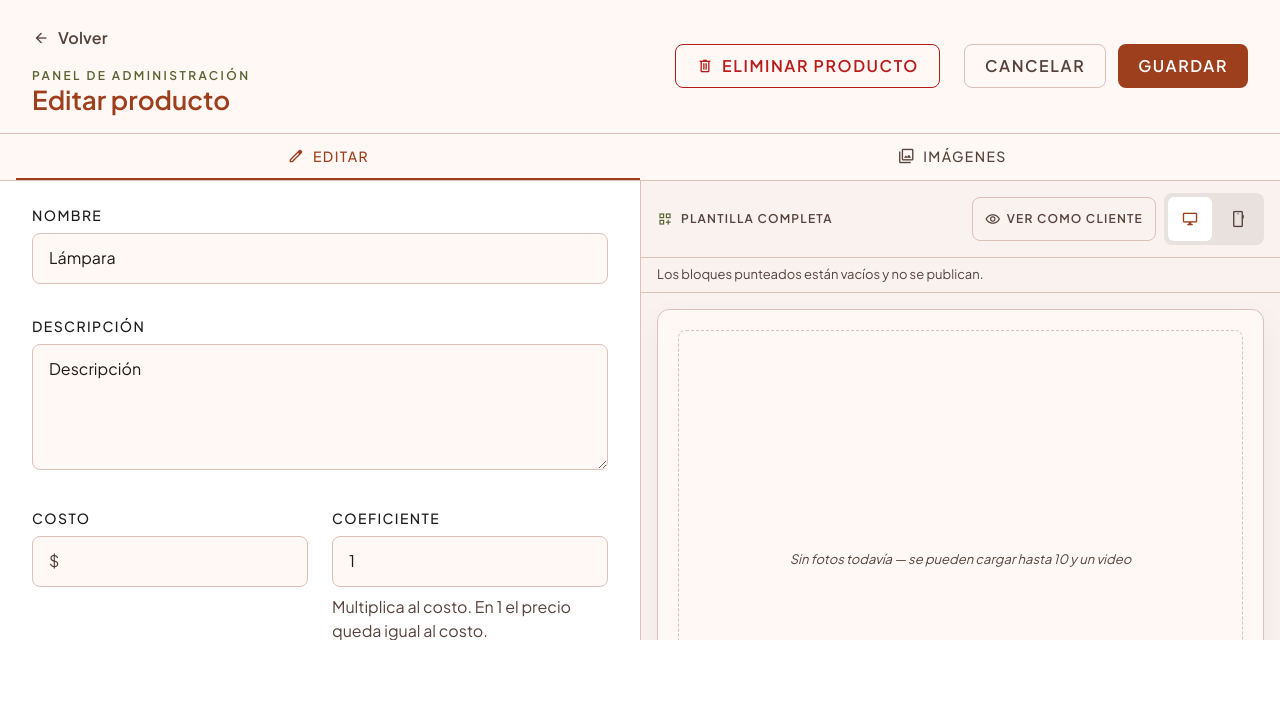
Test: AdminProductoForm — borrar el producto › un fallo deja el diálogo abierto con el motivo a la vista
The width and height of the screenshot is (1280, 720).
Click the button "Eliminar producto": (807, 66) [675,44,940,88]
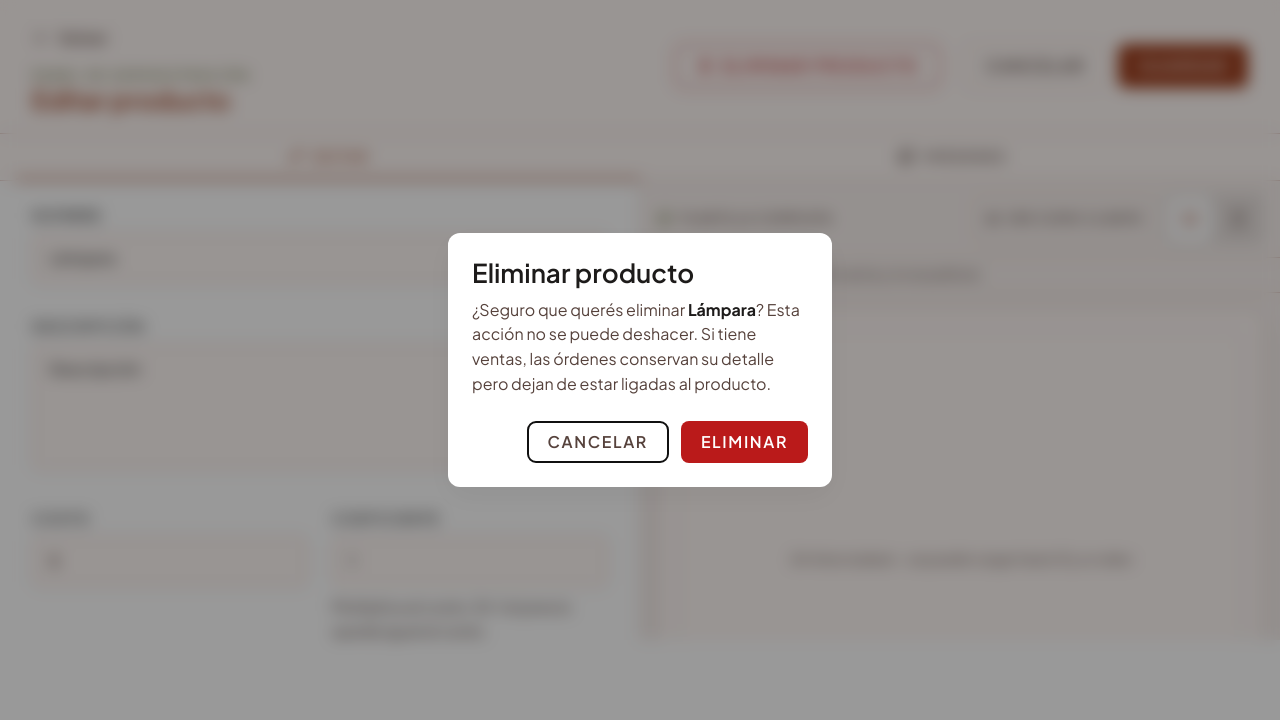
Click the button "Eliminar": (744, 442) [681,421,808,463]
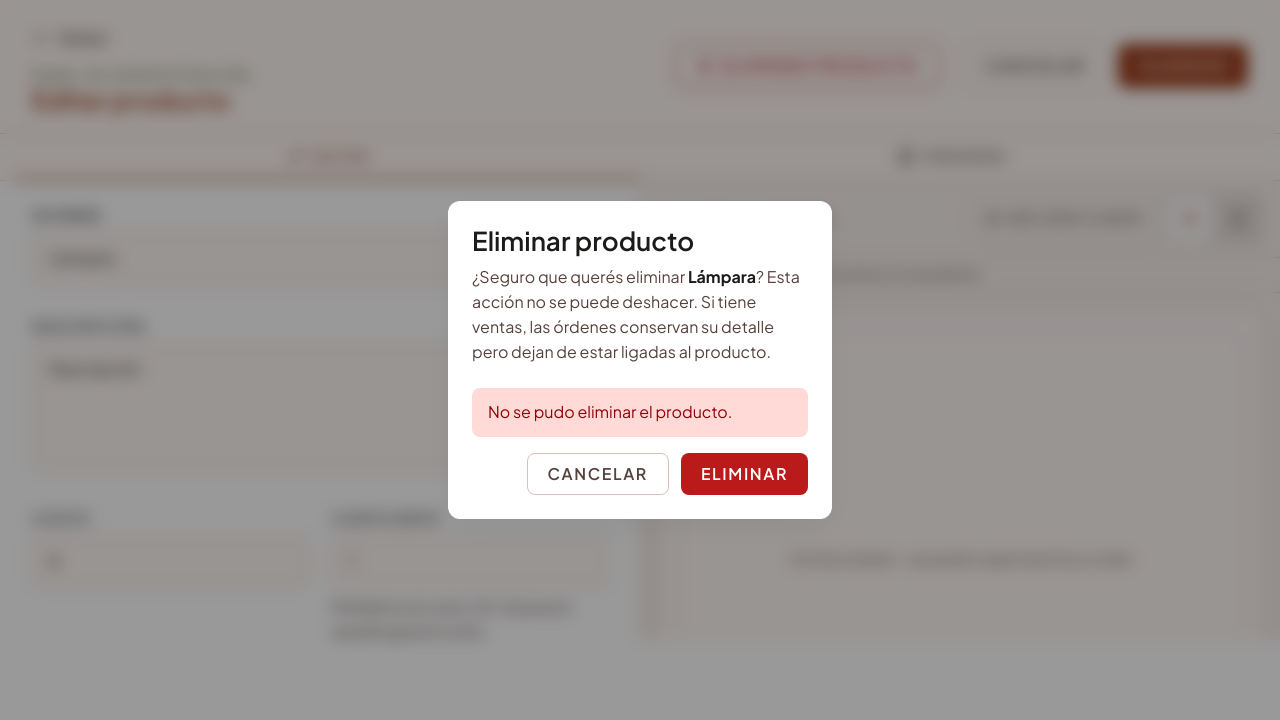
Result: the dialog shows "No se pudo eliminar el producto" at [488,401,732,422]
